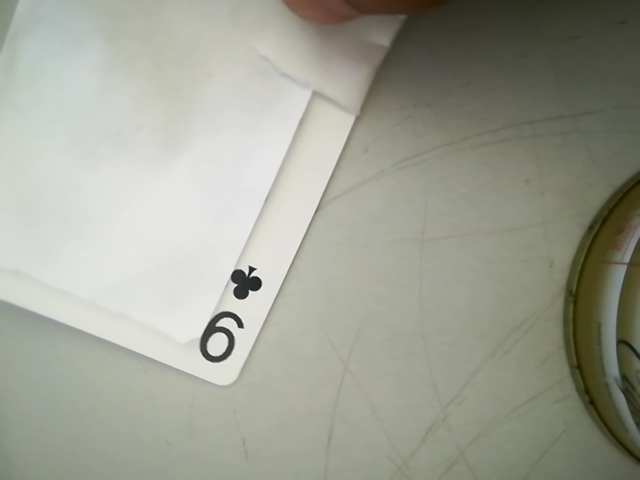mh 9: (199, 251, 270, 374)
